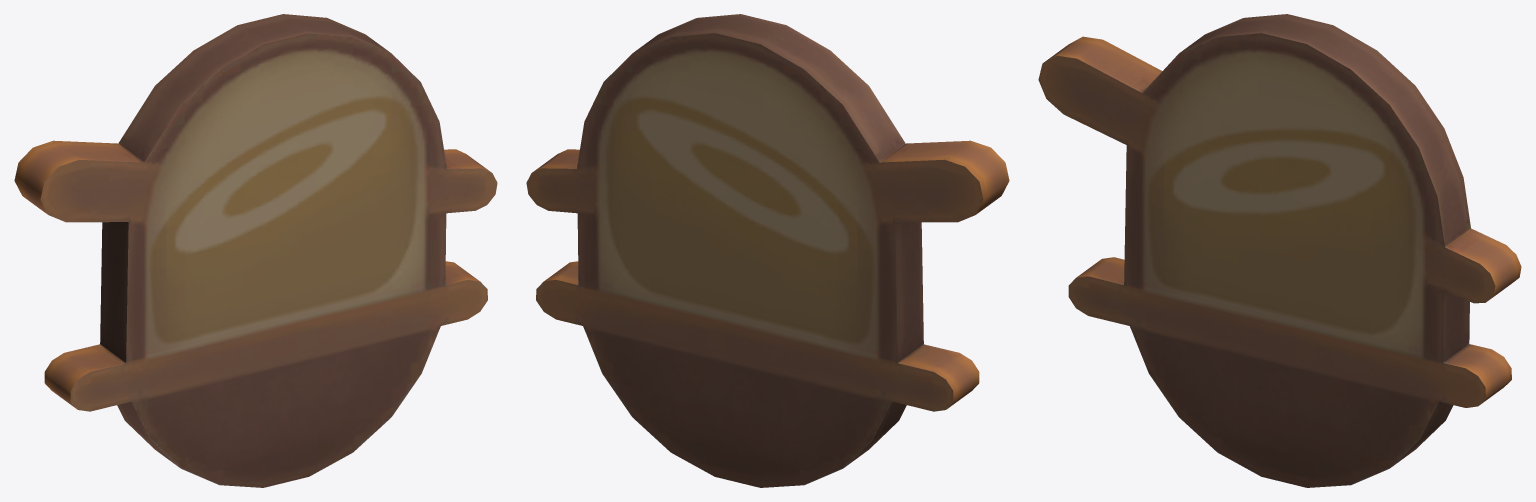
Rendered from pref_sm_city_billboard06_lv3.fbx.
The picture shows the model from 3 angles, left to right: view 1: azimuth 30°, elevation 25°; view 2: azimuth 150°, elevation 25°; view 3: azimuth 330°, elevation 25°; orthographic projection.
Visible parts, largest first — view 1: pref_sm_city_billboard06_lv3; view 2: pref_sm_city_billboard06_lv3; view 3: pref_sm_city_billboard06_lv3.
Part boxes in pixels (x1,y1,x2,y2): pref_sm_city_billboard06_lv3: [14, 14, 497, 487]; pref_sm_city_billboard06_lv3: [526, 14, 1009, 487]; pref_sm_city_billboard06_lv3: [1038, 14, 1521, 487].
Bounding box in the file's own units: 4.08 × 3.79 × 0.4025.
